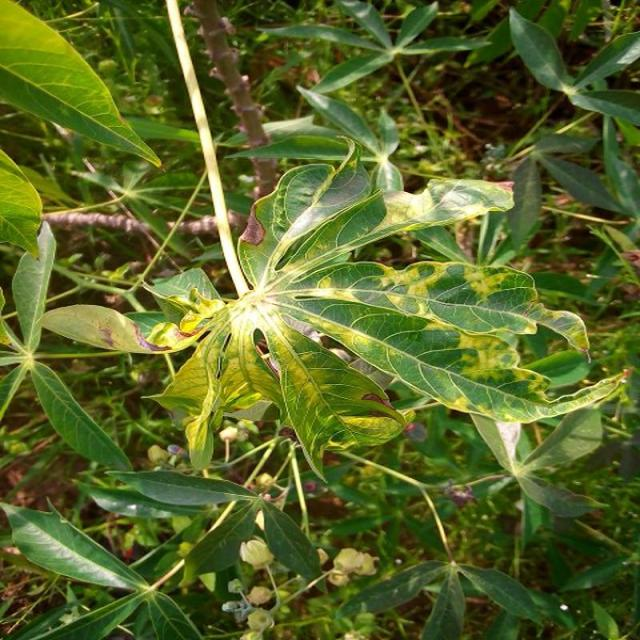cassava leaf: (138, 149, 620, 480), (2, 0, 164, 170)
